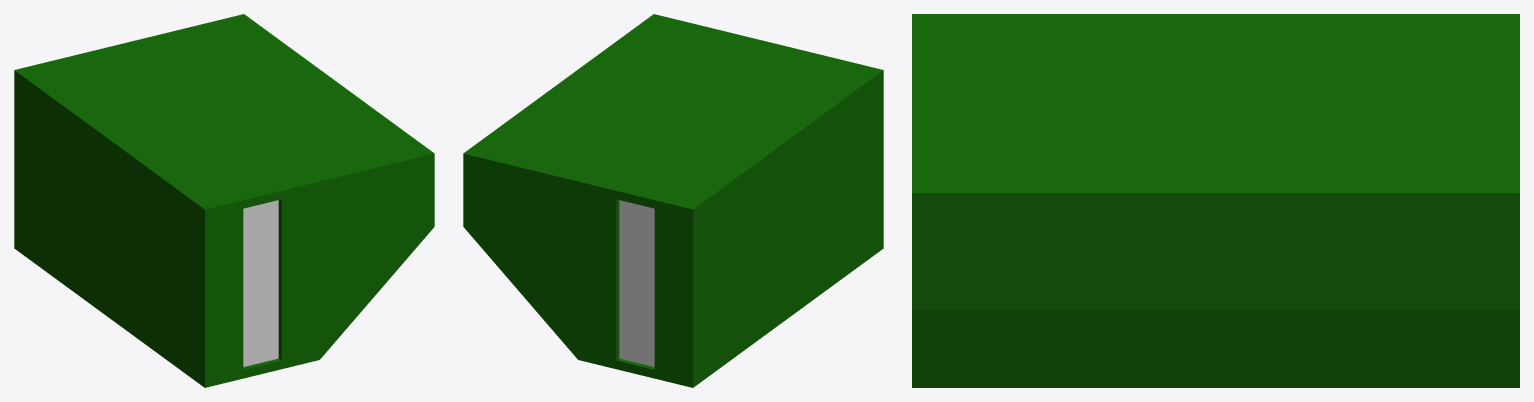
The model's file is decorative thingamajig 2.fbx.
3 views of the same model, side by side, from view 1: azimuth 30°, elevation 25°; view 2: azimuth 150°, elevation 25°; view 3: azimuth 270°, elevation 25° (orthographic). The views are drawn at different scales.
Parts seen in each view (by area): view 1: Cube; view 2: Cube; view 3: Cube.
Part boxes in pixels (<box>): Cube: <box>14,14,434,387</box>; Cube: <box>463,14,883,387</box>; Cube: <box>912,14,1519,387</box>.
Size of the model in its own units: 110 by 81.45 by 158.
